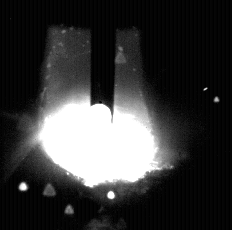arame: (91, 0, 116, 123)
poca: (38, 0, 154, 230)
